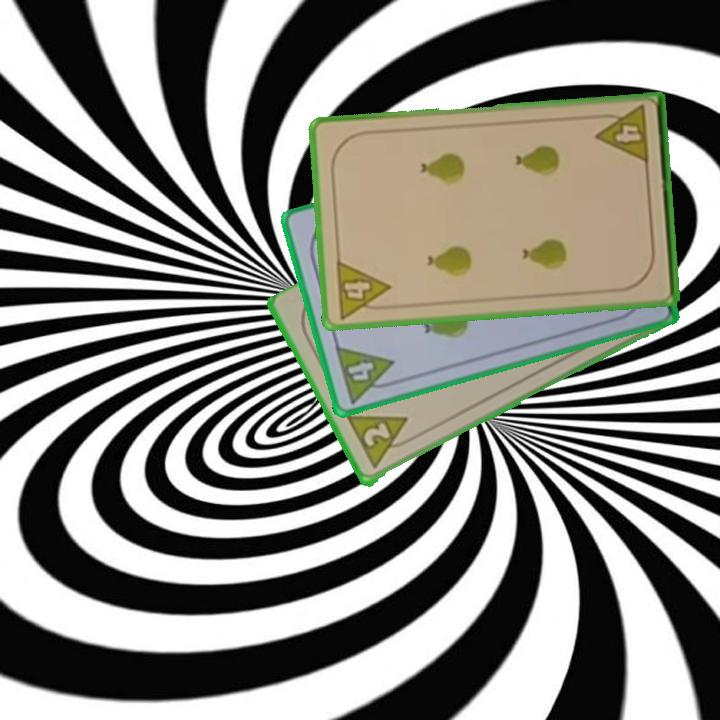2p: (343, 411, 420, 472)
4p: (331, 343, 402, 406), (332, 256, 394, 322), (592, 102, 652, 167)
